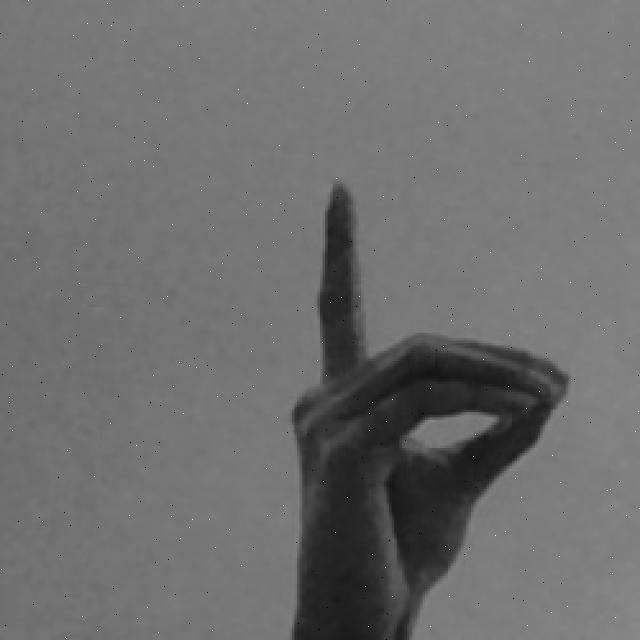D: (280, 184, 572, 640)
